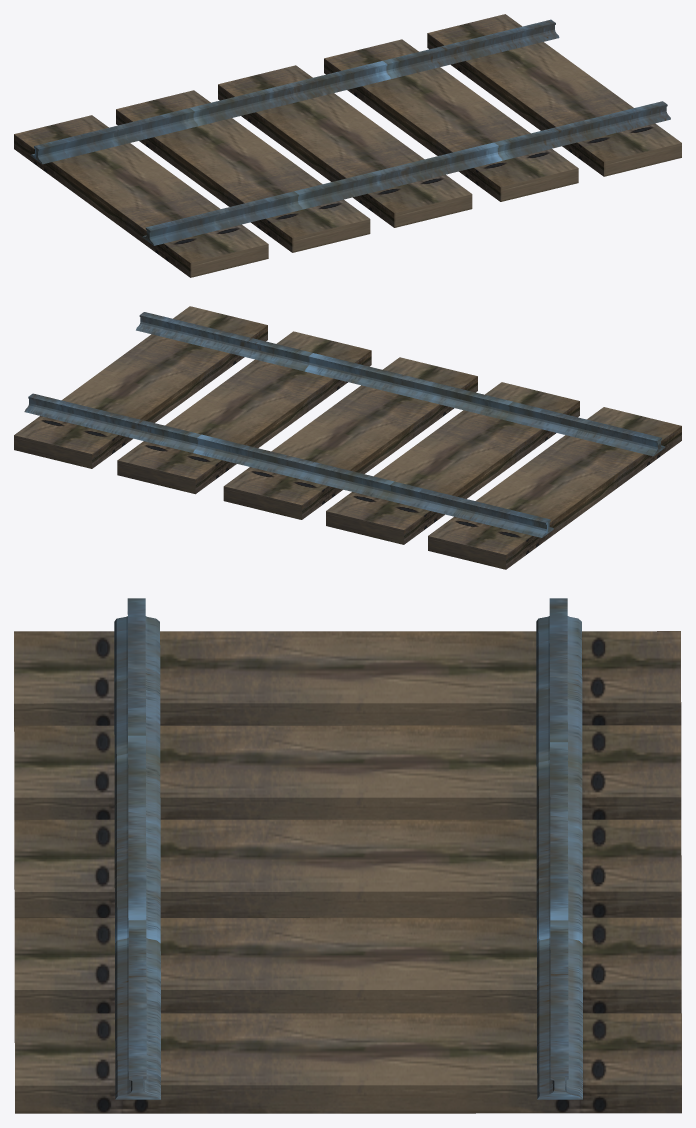
File: Railway.fbx
3 views of the same model, one above another, from view 1: azimuth 30°, elevation 25°; view 2: azimuth 150°, elevation 25°; view 3: azimuth 270°, elevation 25° (orthographic). The views are drawn at different scales.
Parts seen in each view (by area): view 1: Railway; view 2: Railway; view 3: Railway.
Boxes of the visible parts, x1,y1,x2,y2 form: Railway: (14, 14, 681, 277); Railway: (14, 306, 681, 569); Railway: (14, 598, 681, 1113).
Bounding box in the file's own units: 14.92 × 0.7543 × 8.81.
